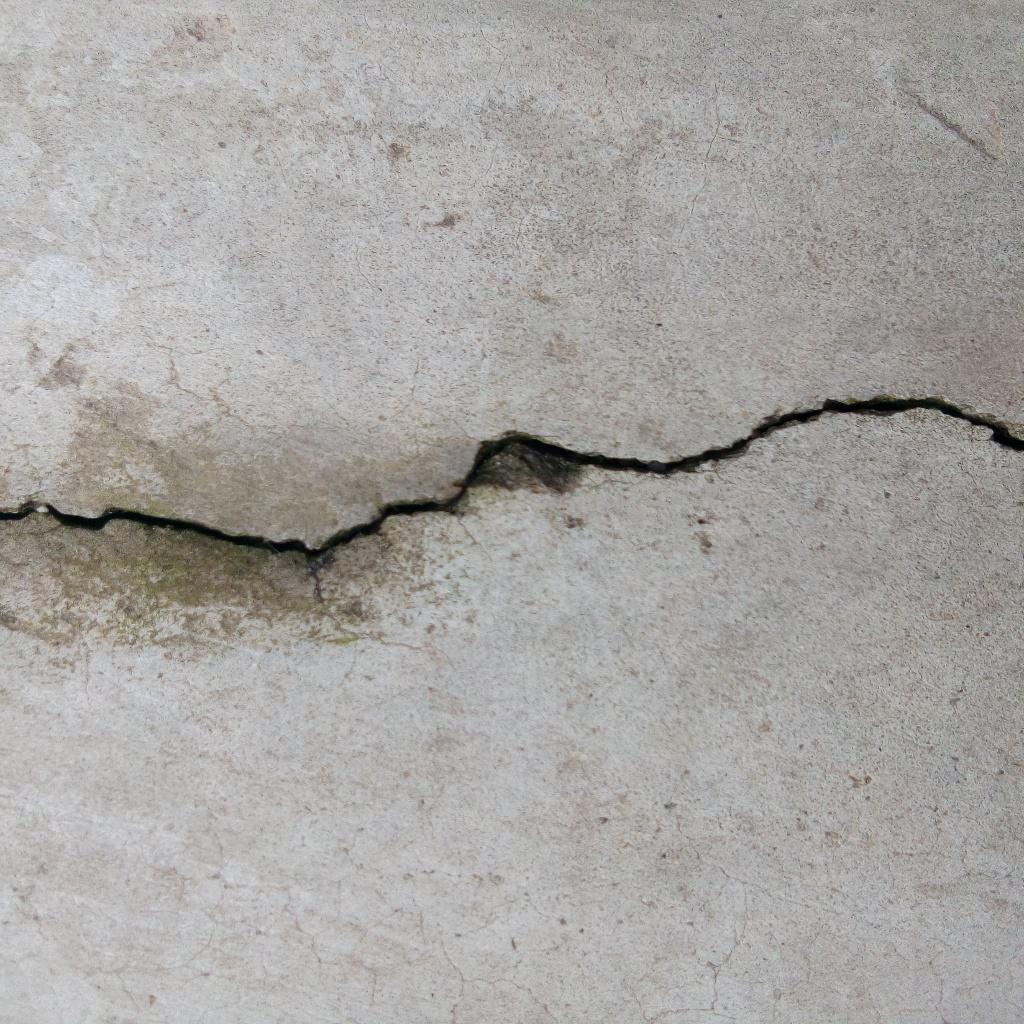Crack: (1, 392, 1024, 561)
